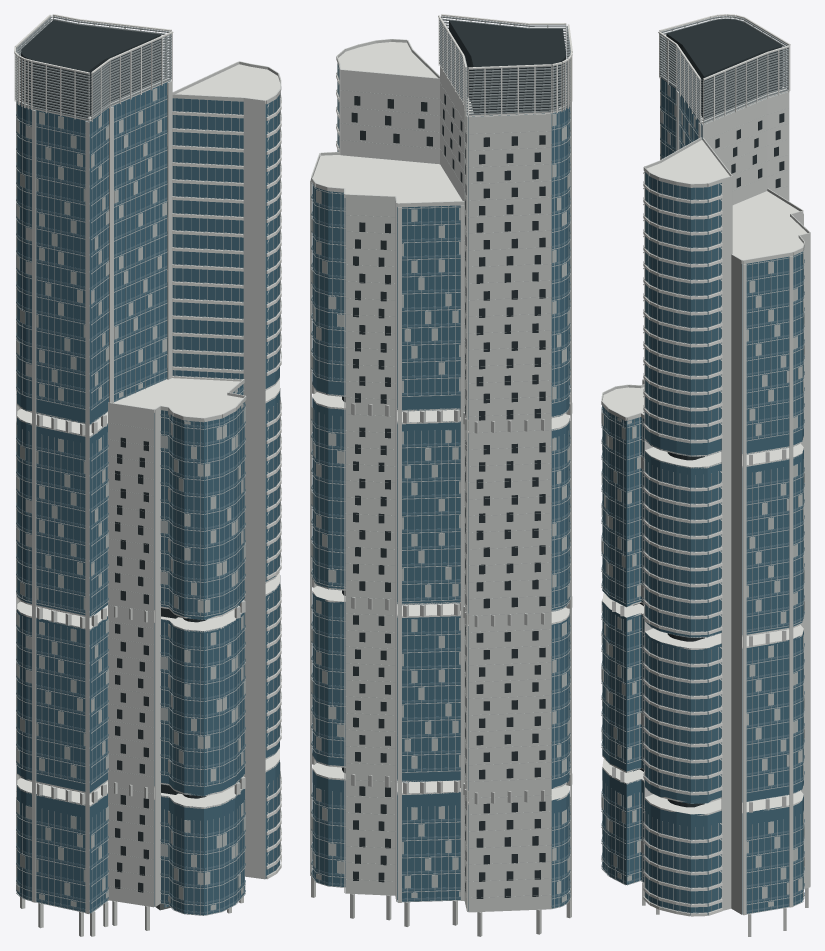
Rendered from bespoke-trimage-101.glb.
The picture shows the model from 3 angles, left to right: view 1: azimuth 30°, elevation 25°; view 2: azimuth 150°, elevation 25°; view 3: azimuth 270°, elevation 25°; orthographic projection. The views are drawn at different scales.
Parts seen in each view (by area): view 1: 101_stepped_wing_masses003_1, 101_photo_specific_facades003, 101_photo_specific_facades003_4, 101_photo_specific_facades003_3, 101_photo_specific_facades003_2, 101_stepped_wing_masses003, 101_photo_specific_facades003_1, 101_louver_crowns003_3, 101_louver_crowns003_2, 101_photo_specific_facades003_5, 101_pilotis_and_recessed_lobby003, 101_louver_crowns003_1 (+1 smaller); view 2: 101_photo_specific_facades003, 101_stepped_wing_masses003_1, 101_photo_specific_facades003_4, 101_photo_specific_facades003_5, 101_photo_specific_facades003_3, 101_stepped_wing_masses003, 101_photo_specific_facades003_2, 101_louver_crowns003_2, 101_louver_crowns003_3, 101_pilotis_and_recessed_lobby003, 101_louver_crowns003_1, 101_louver_crowns003; view 3: 101_stepped_wing_masses003_1, 101_photo_specific_facades003, 101_photo_specific_facades003_4, 101_photo_specific_facades003_1, 101_stepped_wing_masses003, 101_photo_specific_facades003_3, 101_photo_specific_facades003_2, 101_louver_crowns003_3, 101_louver_crowns003_2, 101_louver_crowns003_1, 101_louver_crowns003, 101_pilotis_and_recessed_lobby003 (+2 smaller).
Boxes of the visible parts, bbox=[...] form: 101_stepped_wing_masses003_1: bbox=[17, 80, 279, 915]; 101_photo_specific_facades003: bbox=[16, 80, 265, 913]; 101_photo_specific_facades003_4: bbox=[16, 84, 281, 915]; 101_photo_specific_facades003_3: bbox=[16, 83, 245, 910]; 101_photo_specific_facades003_2: bbox=[16, 95, 245, 913]; 101_stepped_wing_masses003: bbox=[17, 64, 279, 808]; 101_photo_specific_facades003_1: bbox=[172, 95, 281, 879]; 101_louver_crowns003_3: bbox=[15, 16, 171, 119]; 101_louver_crowns003_2: bbox=[21, 20, 161, 117]; 101_photo_specific_facades003_5: bbox=[115, 437, 148, 892]; 101_pilotis_and_recessed_lobby003: bbox=[19, 408, 245, 936]; 101_louver_crowns003_1: bbox=[14, 14, 173, 122]; 101_photo_specific_facades003: bbox=[310, 65, 571, 912]; 101_stepped_wing_masses003_1: bbox=[312, 64, 569, 911]; 101_photo_specific_facades003_4: bbox=[311, 63, 570, 908]; 101_photo_specific_facades003_5: bbox=[351, 94, 545, 898]; 101_photo_specific_facades003_3: bbox=[311, 83, 570, 902]; 101_stepped_wing_masses003: bbox=[312, 42, 569, 804]; 101_photo_specific_facades003_2: bbox=[311, 109, 570, 906]; 101_louver_crowns003_2: bbox=[449, 20, 565, 113]; 101_louver_crowns003_3: bbox=[439, 16, 570, 115]; 101_pilotis_and_recessed_lobby003: bbox=[311, 381, 572, 936]; 101_louver_crowns003_1: bbox=[438, 14, 572, 117]; 101_louver_crowns003: bbox=[311, 39, 464, 207]; 101_stepped_wing_masses003_1: bbox=[602, 78, 803, 915]; 101_photo_specific_facades003: bbox=[642, 77, 810, 915]; 101_photo_specific_facades003_4: bbox=[601, 79, 804, 914]; 101_photo_specific_facades003_1: bbox=[643, 172, 722, 916]; 101_stepped_wing_masses003: bbox=[602, 75, 807, 815]; 101_photo_specific_facades003_3: bbox=[601, 84, 804, 906]; 101_photo_specific_facades003_2: bbox=[601, 90, 804, 912]; 101_louver_crowns003_3: bbox=[659, 16, 788, 123]; 101_louver_crowns003_2: bbox=[666, 19, 782, 118]; 101_louver_crowns003_1: bbox=[658, 14, 790, 125]; 101_louver_crowns003: bbox=[601, 137, 810, 420]; 101_pilotis_and_recessed_lobby003: bbox=[612, 448, 808, 936].
Size of the model in its own units: 46.11 by 157 by 36.66.
